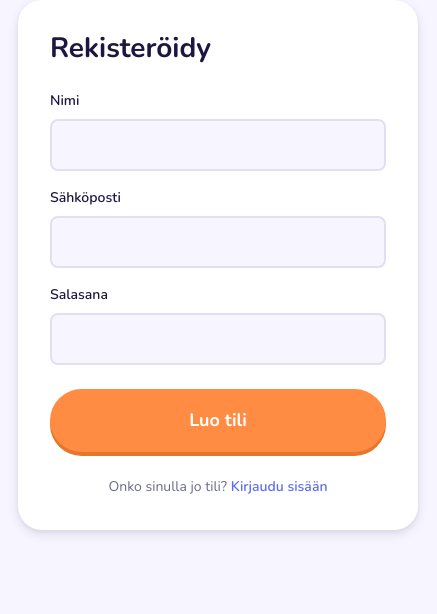
Test: RegisterPage › shows an error and does not navigate when sign-up fails
This screenshot has width=437, height=614.
Type "Matti" into the field labelled "Nimi" at [218, 145], box [50,119,386,171]
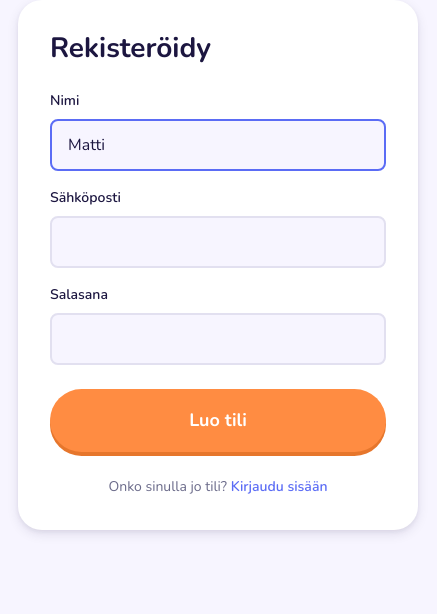
Type "matti@example.com" into the field labelled "Sähköposti" at [218, 242], box [50,216,386,268]
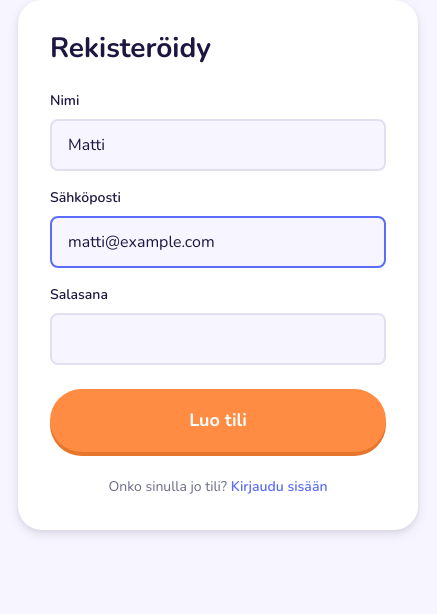
Type "salainen123" into the password field labelled "Salasana" at [218, 339], box [50,313,386,365]
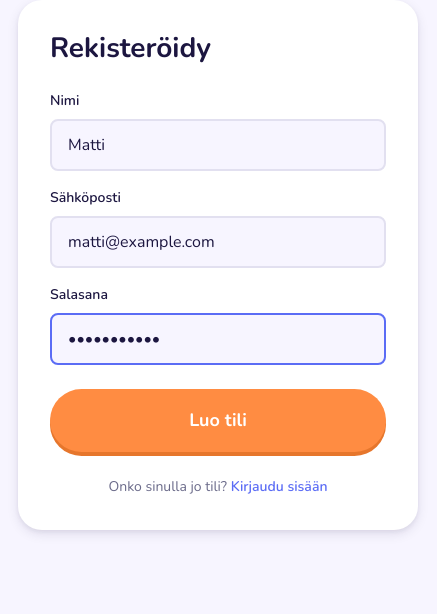
Click the button "Luo tili" at [218, 420], box [50,389,386,452]
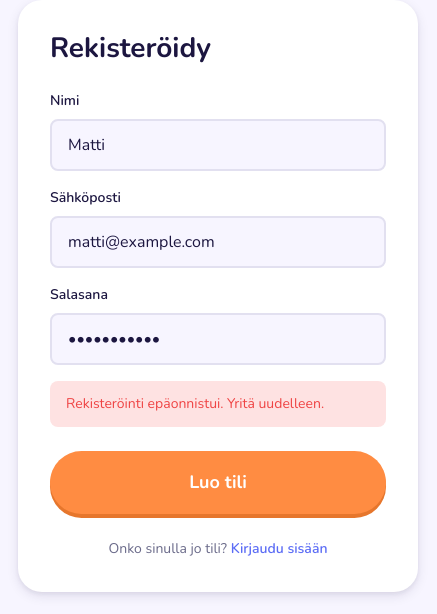
Now the text "Rekisteröinti epäonnistui. Yritä uudelleen." is shown, box [50,381,386,427]
